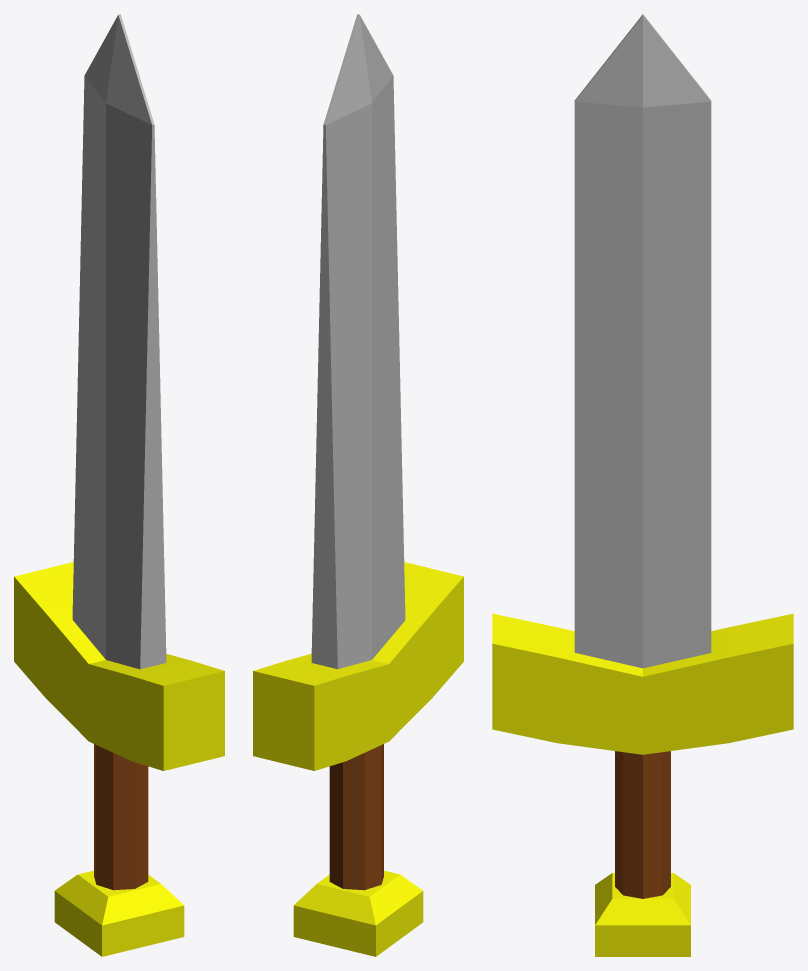
The model's file is sword.fbx.
3 renders of one model, left to right at view 1: azimuth 30°, elevation 25°; view 2: azimuth 150°, elevation 25°; view 3: azimuth 270°, elevation 25°, orthographic.
Parts seen in each view (by area): view 1: Cube; view 2: Cube; view 3: Cube.
Part boxes in pixels (box(x1,y1,x2,y2)): Cube: box(14, 14, 224, 956); Cube: box(253, 14, 463, 956); Cube: box(492, 14, 793, 956).
Bounding box in the file's own units: 200 × 2125 × 629.
